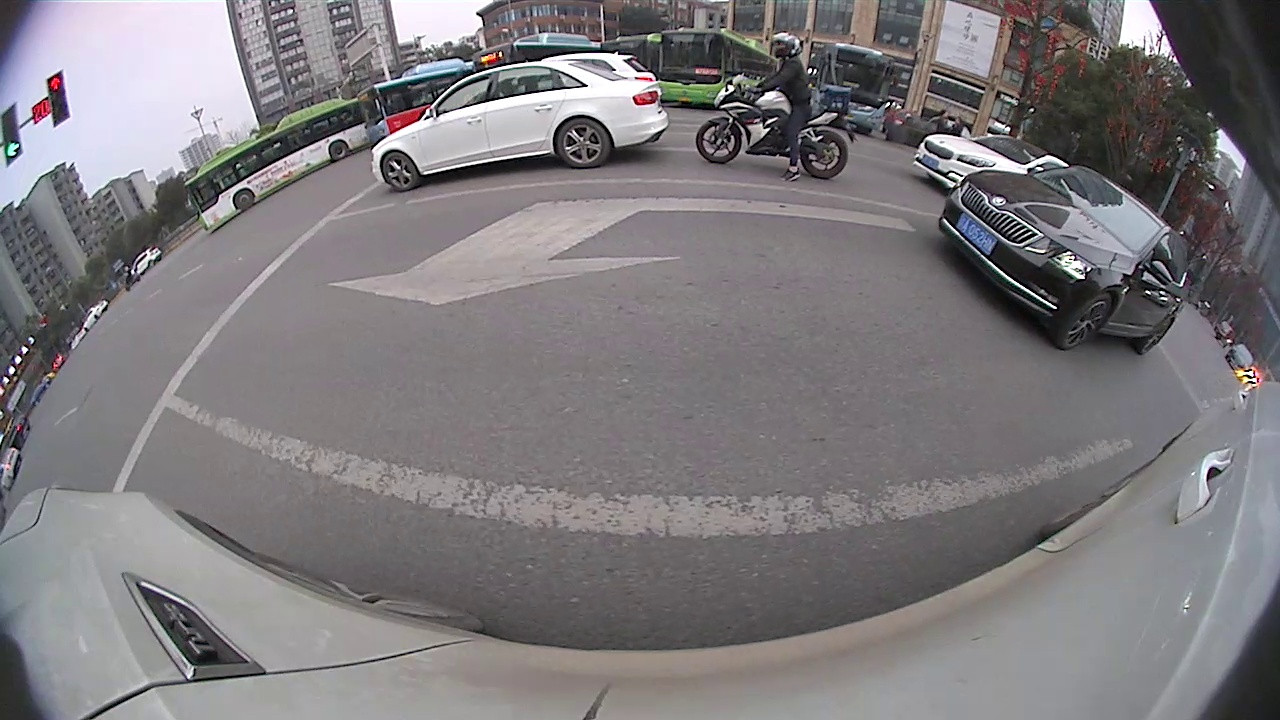bus: (182, 95, 375, 236), (359, 55, 478, 148)
car: (937, 163, 1191, 356), (371, 58, 670, 192), (911, 133, 1072, 193), (129, 243, 164, 277)
front: (1051, 291, 1117, 360), (693, 115, 745, 168), (378, 147, 423, 196)
rear: (553, 116, 616, 171), (797, 125, 853, 183), (1137, 312, 1173, 357)
rider: (696, 31, 850, 182)
